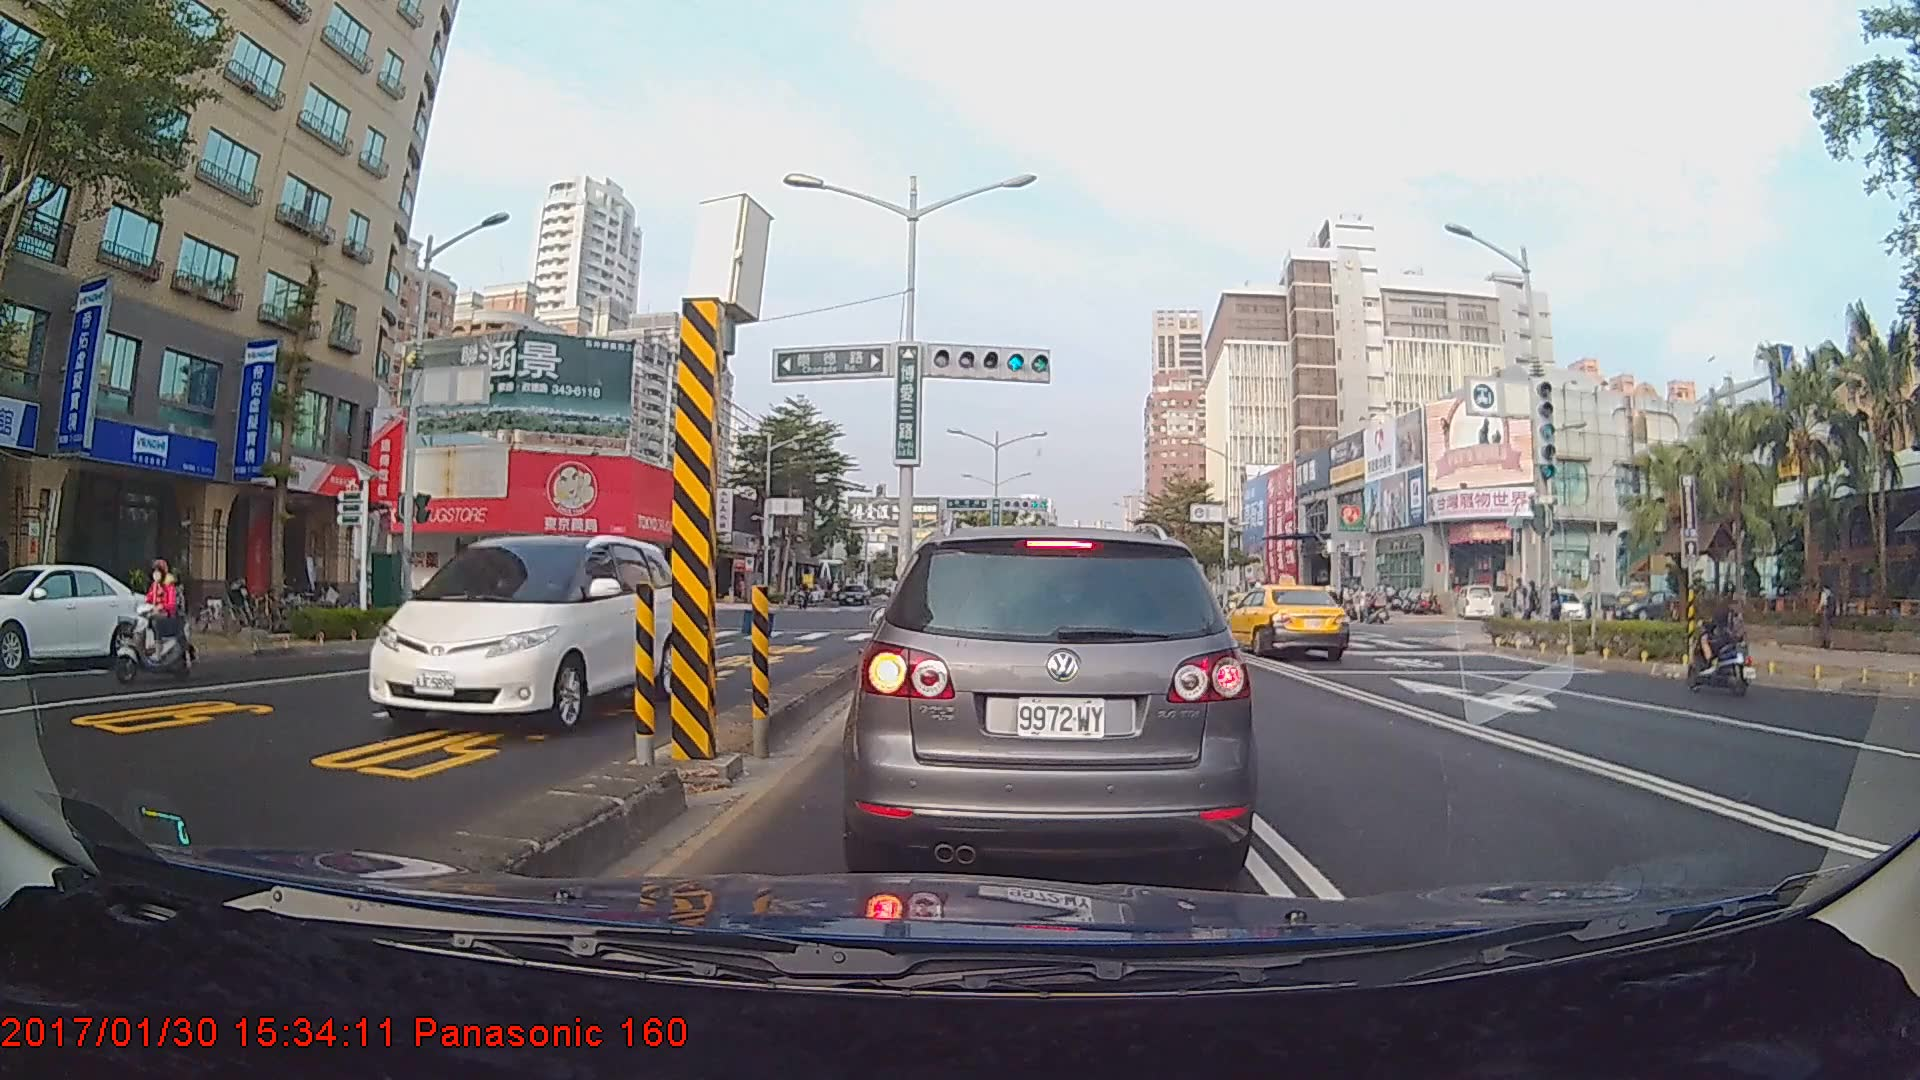pedestrian: (1815, 579, 1840, 649)
rider: (101, 558, 189, 690), (1681, 578, 1764, 702)
vehicle: (854, 521, 1253, 877), (360, 528, 687, 733), (0, 561, 158, 671), (1221, 582, 1351, 663)
